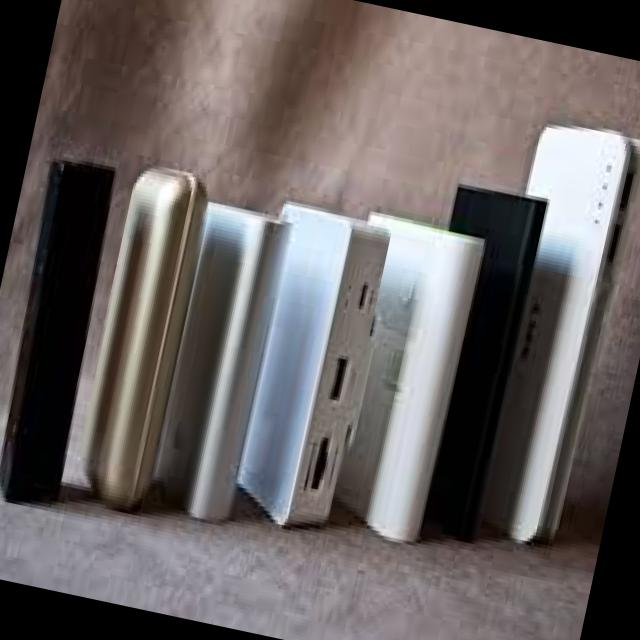portable-charger: (448, 115, 640, 555), (296, 202, 491, 556), (128, 186, 298, 540), (383, 182, 550, 538), (220, 196, 392, 534), (60, 162, 210, 503), (0, 154, 131, 523)
